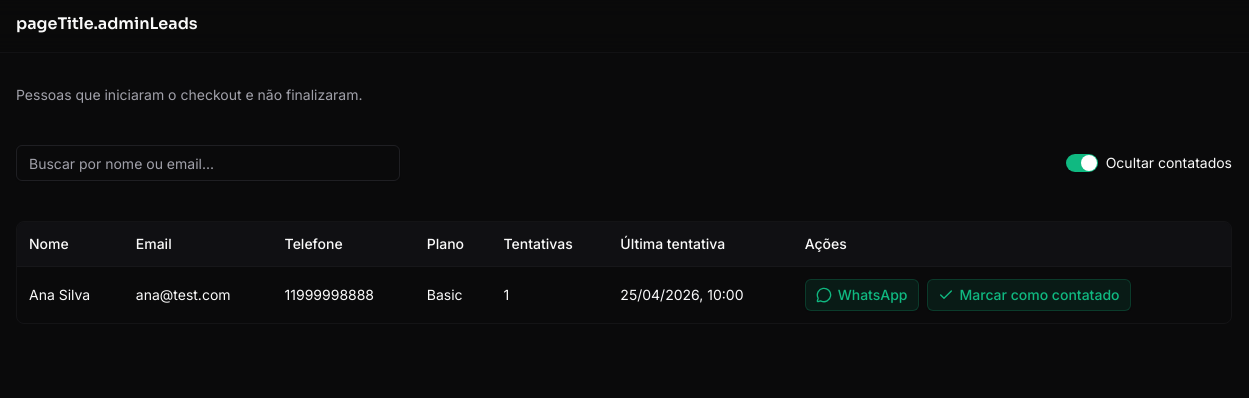
it: AdminLeadsPage › hides contacted leads by default and shows them when toggle is off
The width and height of the screenshot is (1249, 398).
Expected: the text "Ana Silva" is shown, [29,285,90,305]
Expected: the text "Bruno Lima" is not shown
Click the switch at (1082, 163), box [1066,154,1098,172]
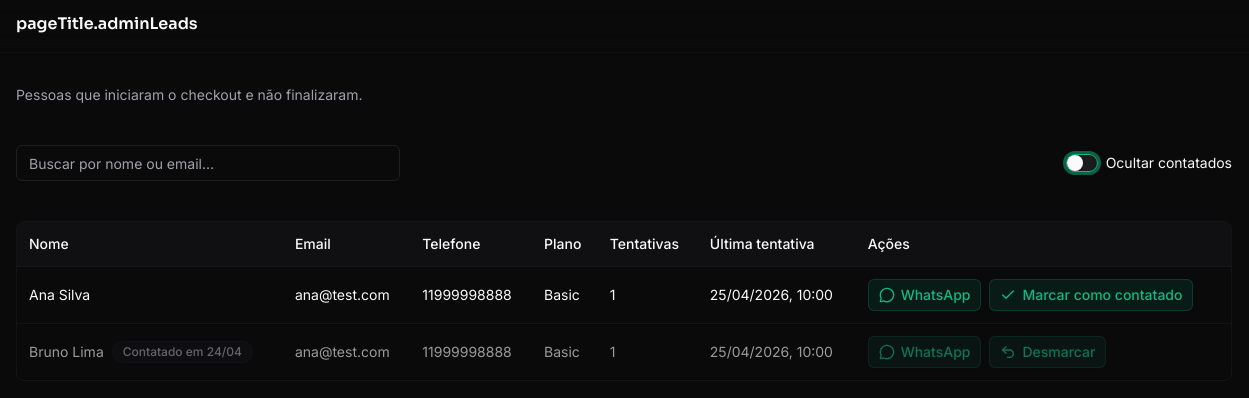
Expected: the text "Bruno Lima" is shown, [29,342,104,362]
